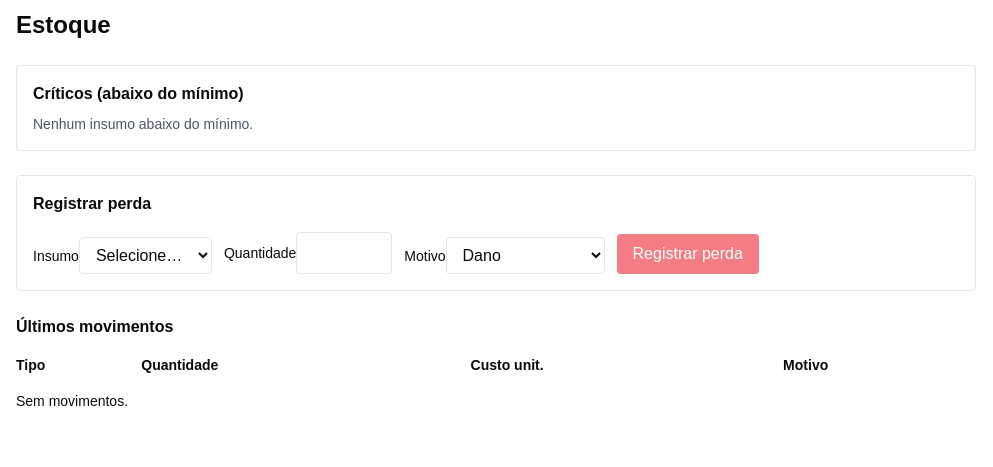
Test case: EstoquePage › registra perda e reflete no estoque
Expected: the heading "Críticos (abaixo do mínimo)" is shown, left=33, top=85, right=244, bottom=102
Step 1. Select "Queijo" in the dropdown labelled "Insumo" → (145, 256), box left=79, top=237, right=212, bottom=274
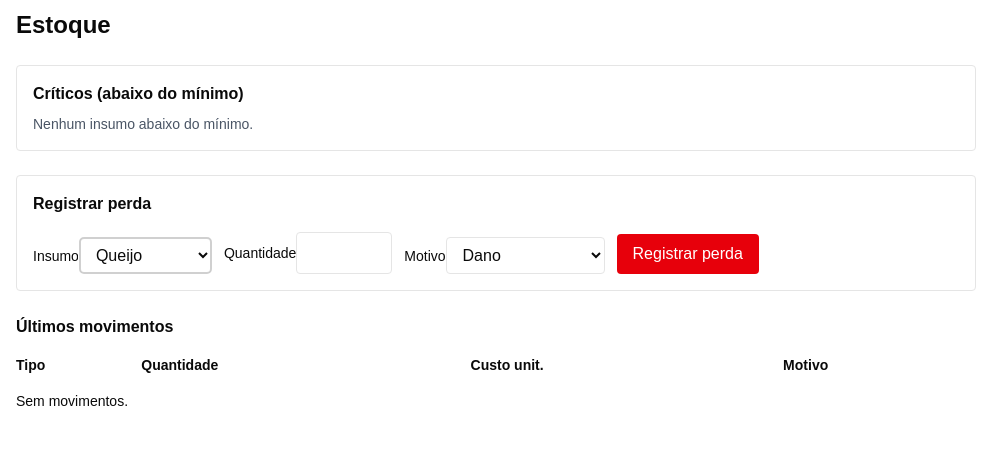
Step 2. Type "1" into the number field labelled "Quantidade" → (344, 253), box left=296, top=232, right=392, bottom=274
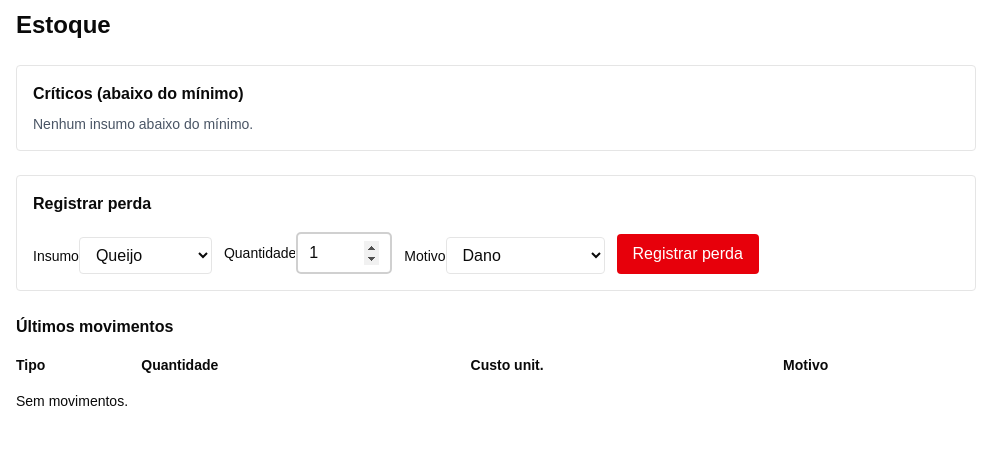
Step 3. Click the button "Registrar perda" → (688, 254), box left=617, top=234, right=759, bottom=274
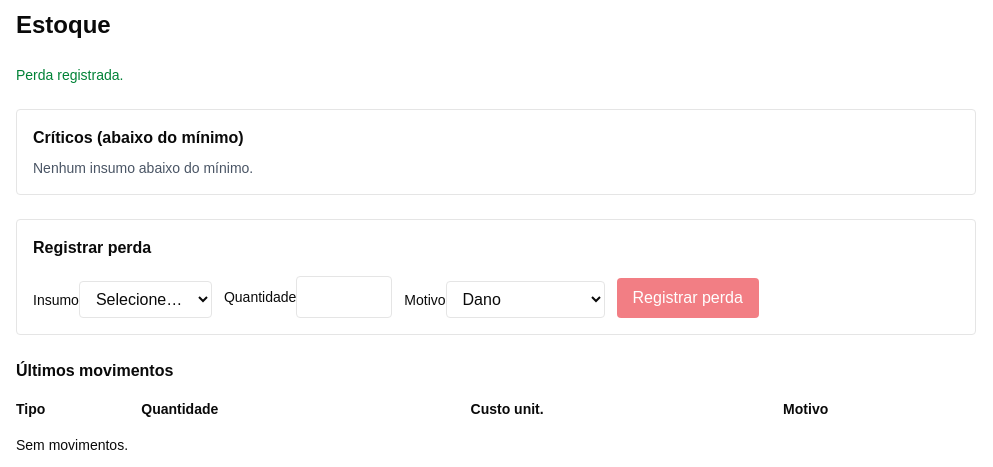
Expected: the message "Perda registrada." is shown, left=16, top=67, right=123, bottom=83
